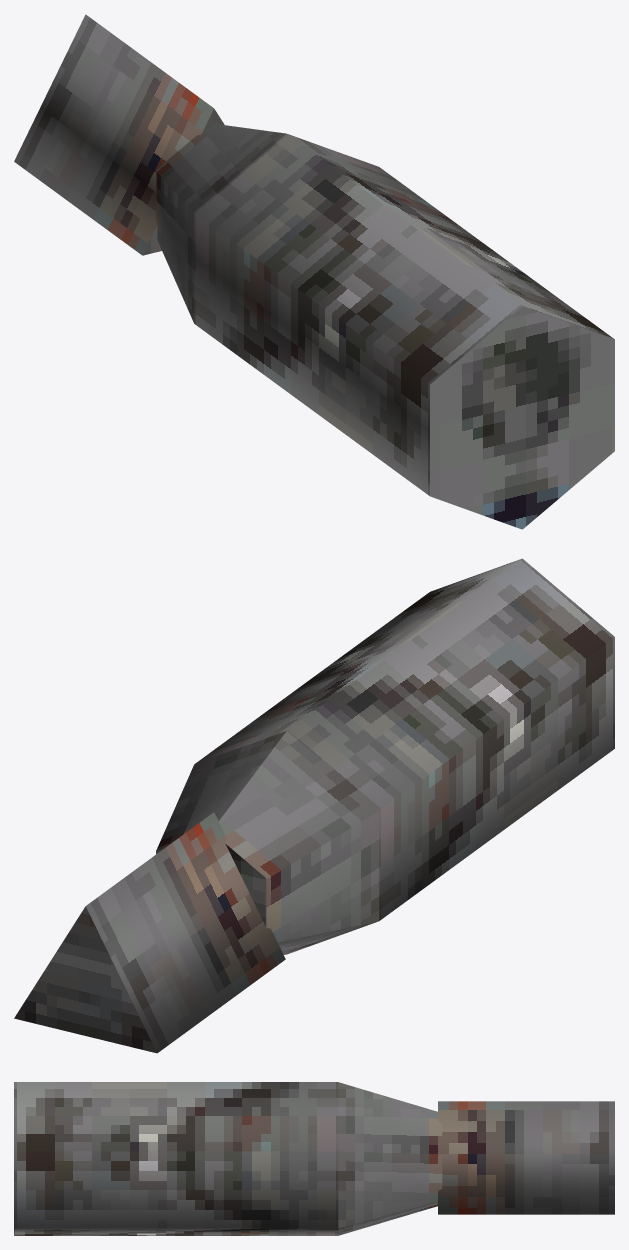
File: LOD2-UVFlip.obj
The picture shows the model from 3 angles, top to bottom: view 1: azimuth 30°, elevation 25°; view 2: azimuth 150°, elevation 25°; view 3: azimuth 270°, elevation 25°; orthographic projection. The views are drawn at different scales.
Parts seen in each view (by area): view 1: hw2Shader2; view 2: hw2Shader2; view 3: hw2Shader2.
Boxes of the visible parts, x1,y1,x2,y2 form: hw2Shader2: (14, 14, 614, 529); hw2Shader2: (14, 558, 614, 1053); hw2Shader2: (14, 1082, 614, 1235).
Bounding box in the file's own units: 4.18 × 4.82 × 17.09.
